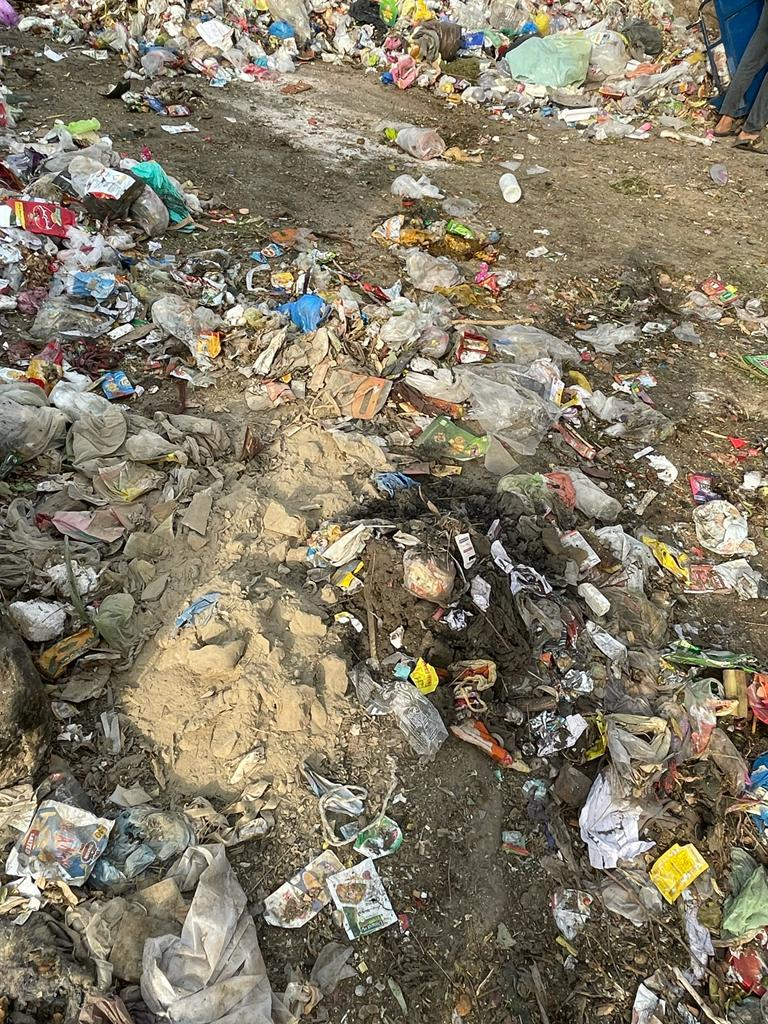garbage: (0, 0, 756, 1024)
